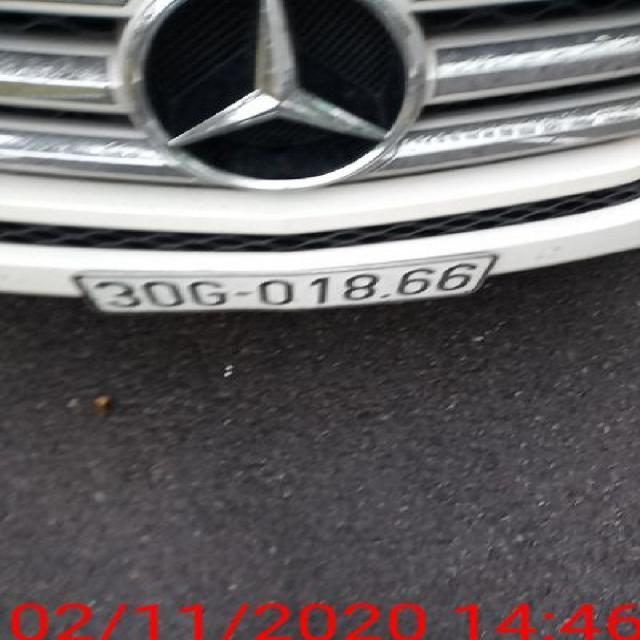bien_so_oto: (70, 250, 503, 316)
